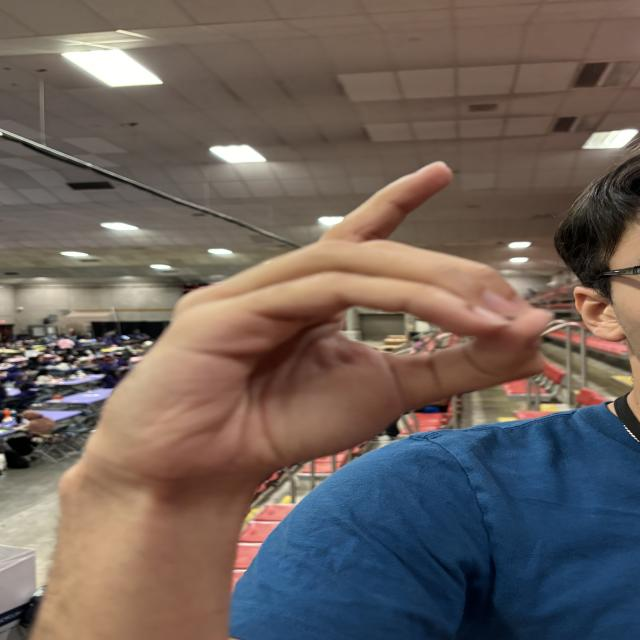D: (182, 138, 568, 450)
